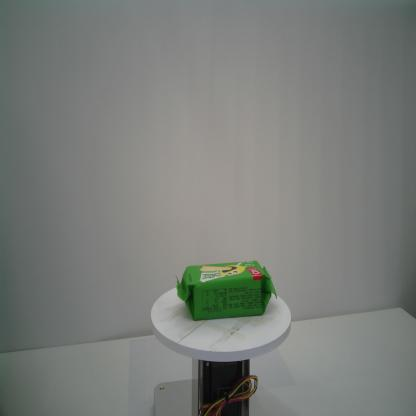Dessert: (174, 258, 279, 321)
